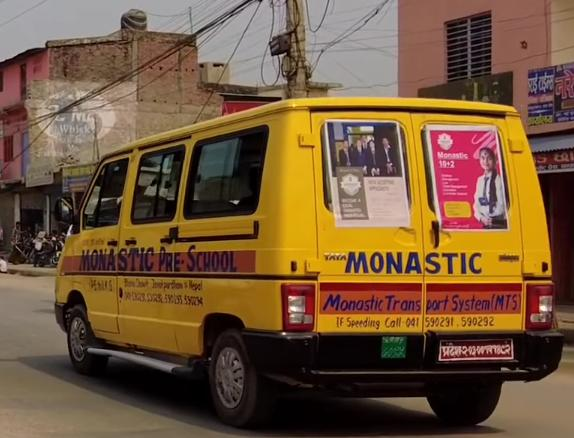school_bus: (50, 95, 564, 427)
